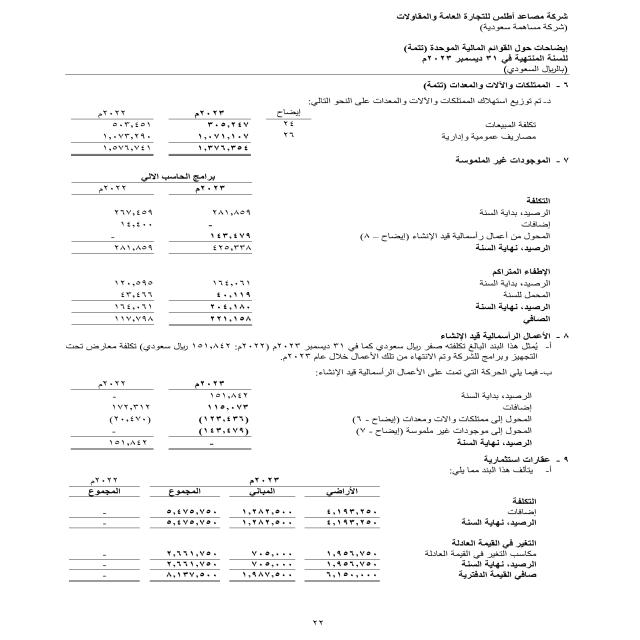notes: (394, 43, 574, 53)
table: (41, 469, 394, 592), (45, 168, 273, 259), (31, 375, 263, 451), (44, 107, 313, 162), (48, 268, 260, 334)
